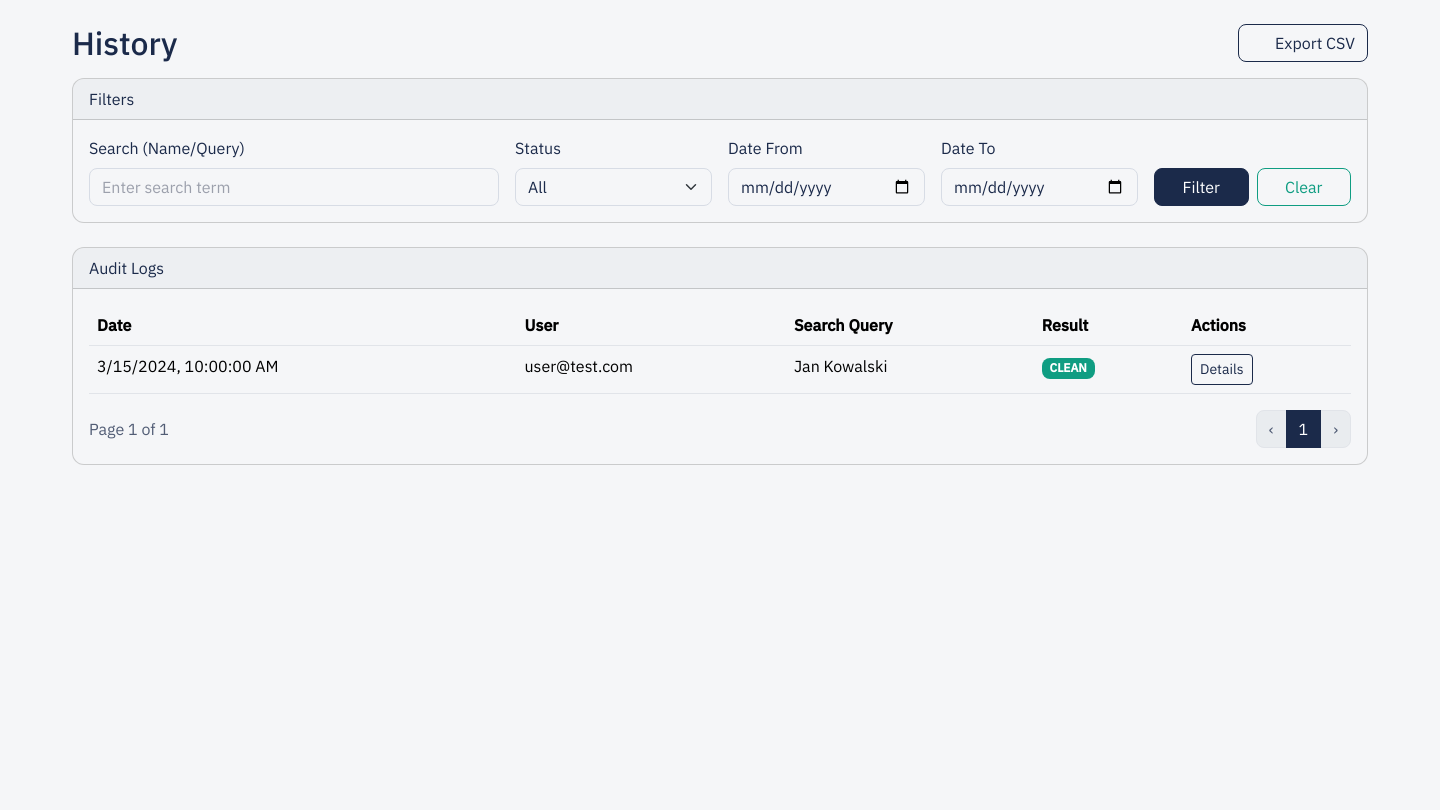
Test case: HistoryPage › opens details modal when Details button is clicked
The image size is (1440, 810).
Click the button with test id "history-details-btn" at (1222, 370), box [1191, 354, 1253, 385]
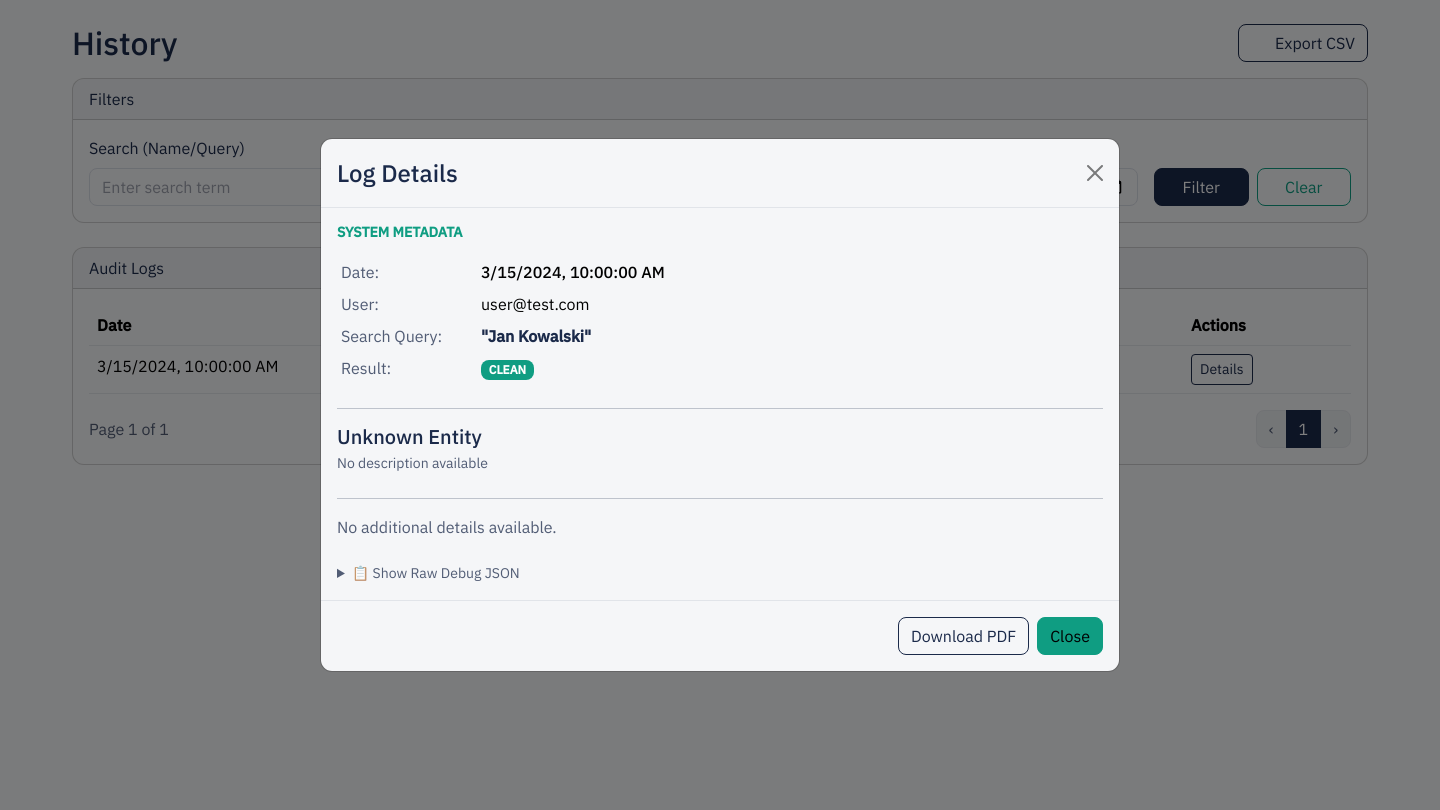
Check: the dialog is shown, box [320, 138, 1120, 672]
Check: the dialog shows "Log Details", box [337, 156, 458, 188]
